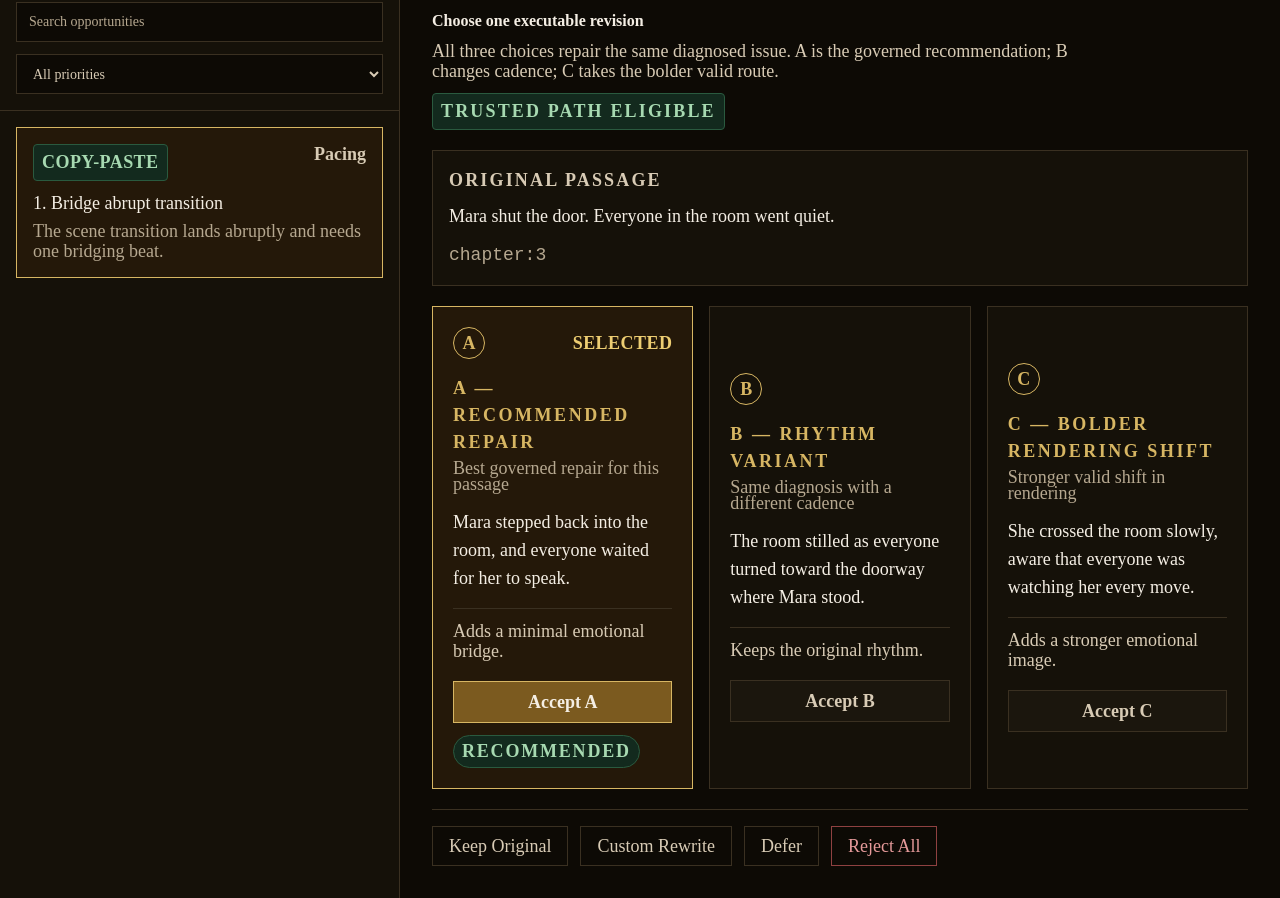
Test: ReviseCockpitClientWorkflowV2 › reloads persisted authority after a 409 stale write and does not let the failed attempt decide the card
This screenshot has width=1280, height=898.
(page scrolled)
What coordinates should you click on to do the following:
click the button "Accept A"
I would click on:
 (563, 702)
Its box is top-left (453, 681), bottom-right (672, 723).
(page scrolled)
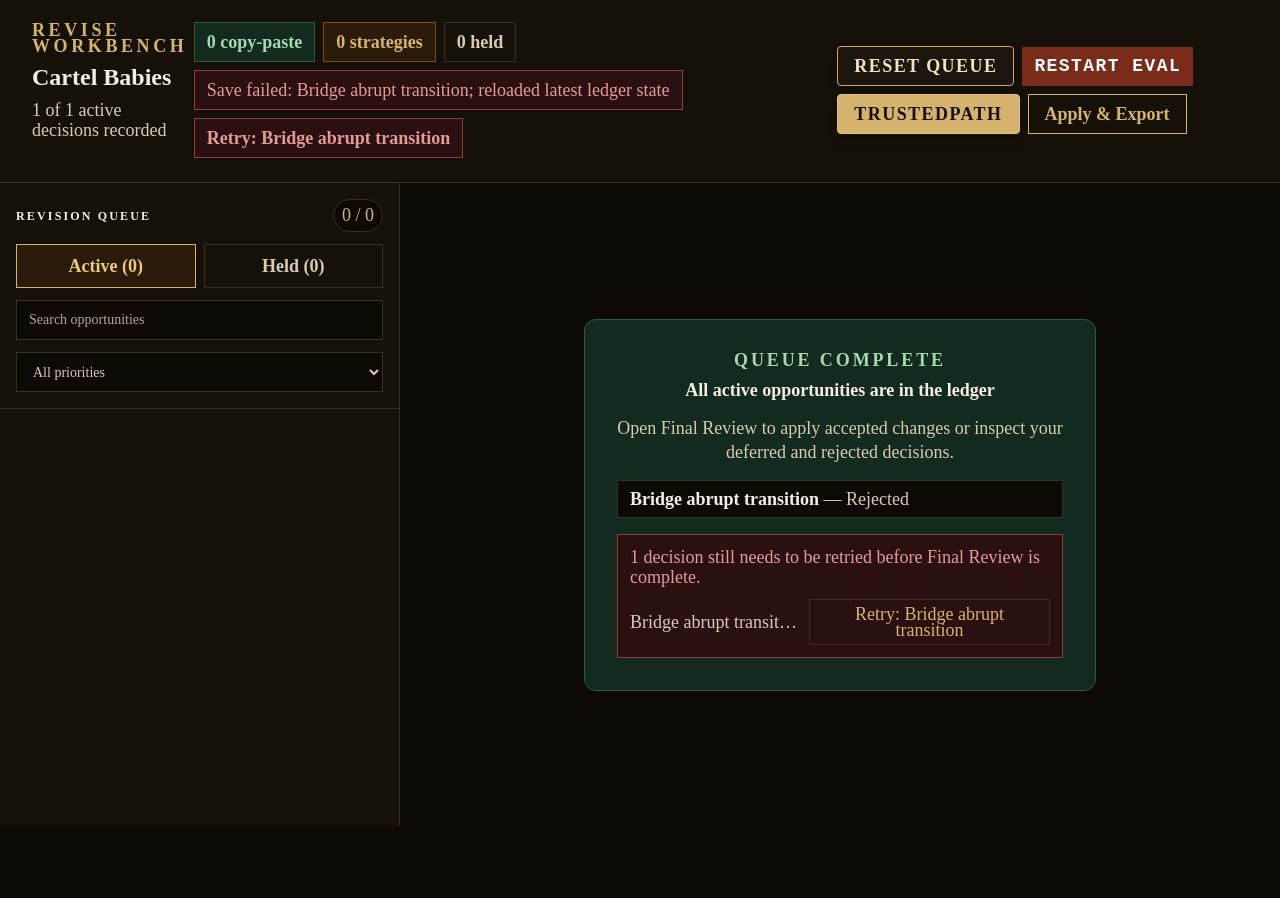
Expected: the message shows "reloaded latest ledger state", top-left (207, 80), bottom-right (670, 100)
Expected: the text "1 of 1 active decisions recorded" is shown, top-left (32, 100), bottom-right (178, 140)
Expected: the button "Active (0)" is shown, top-left (16, 244), bottom-right (196, 288)
